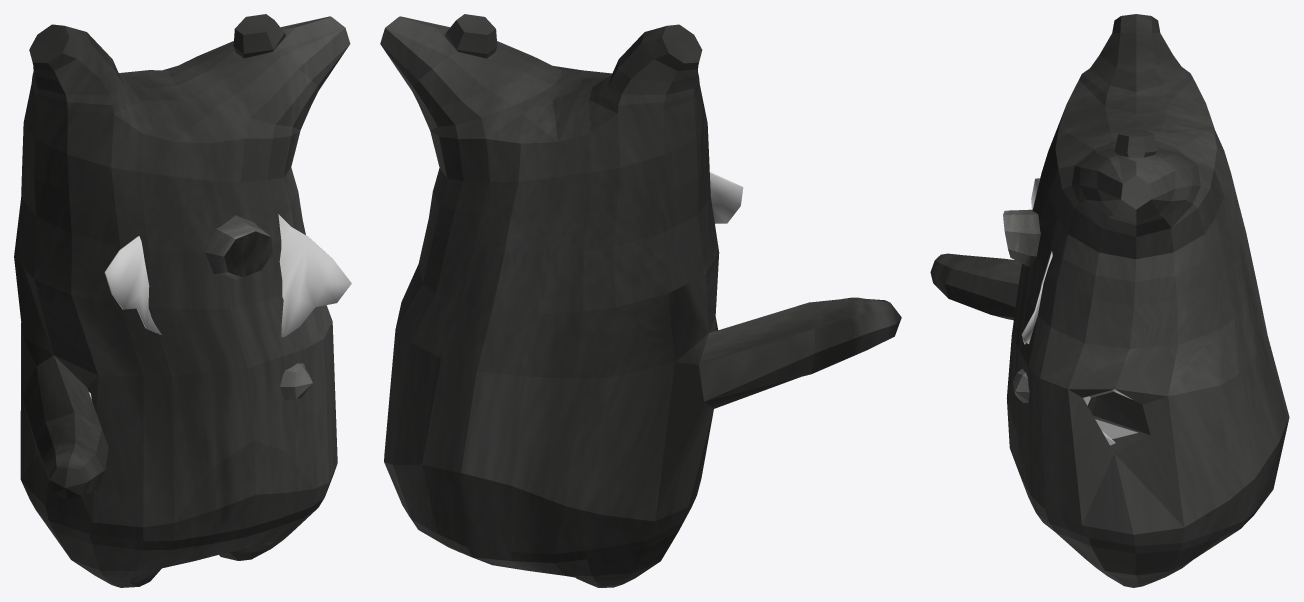
File: frame_0003.obj
3 renders of one model, left to right at view 1: azimuth 30°, elevation 25°; view 2: azimuth 150°, elevation 25°; view 3: azimuth 270°, elevation 25°, orthographic. The views are drawn at different scales.
Visible parts, largest first — view 1: korok, leaf, nose; view 2: korok, leaf; view 3: korok, nose, leaf.
Part boxes in pixels (x1,y1,x2,y2): korok: (14, 14, 350, 587); leaf: (104, 214, 351, 337); nose: (205, 215, 273, 280); korok: (380, 14, 901, 587); leaf: (709, 172, 743, 223); korok: (930, 14, 1289, 587); nose: (1003, 209, 1040, 267); leaf: (1021, 178, 1052, 344).
Size of the model in its own units: 1.67 by 2.26 by 1.48.
